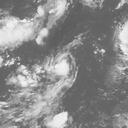cyclone: (43, 50, 79, 83)
